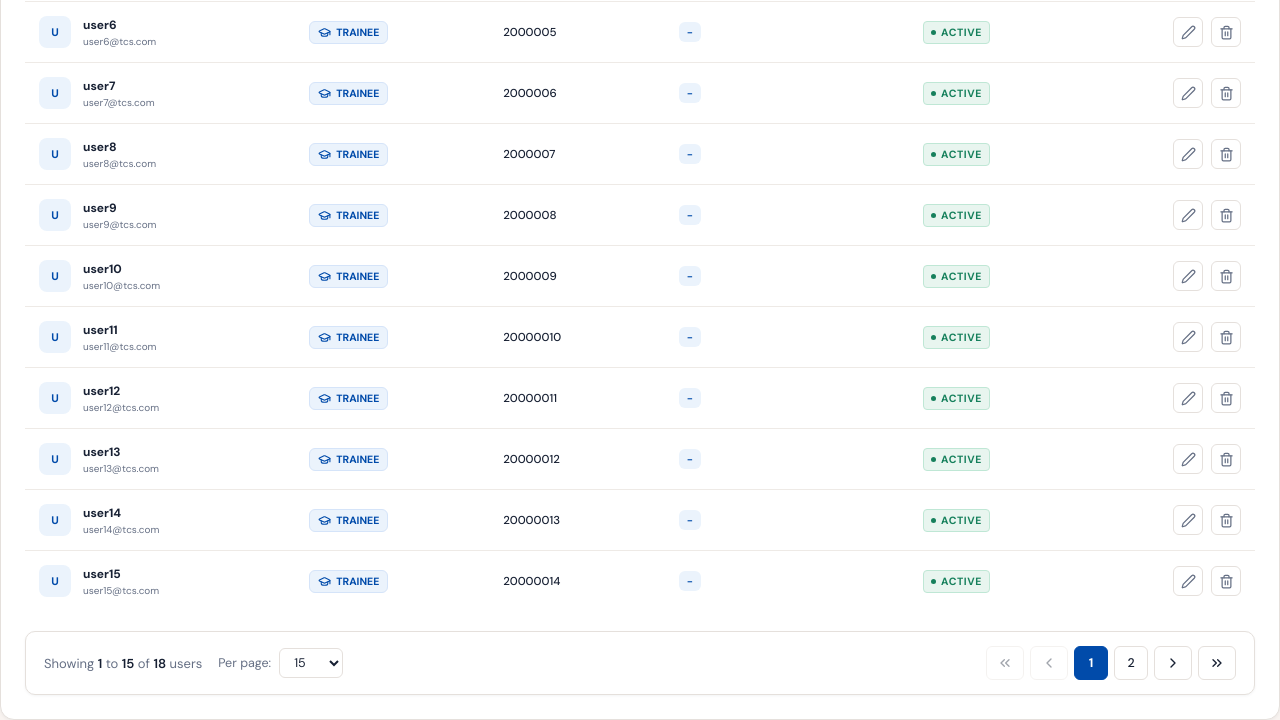
Test: ManageUsers page › paginates the table and navigates to the next page
(page scrolled)
Expected: the text "user16" is not shown
Click the button named "next page" at [1173, 663], box x1=1154 y1=646 x2=1192 y2=680
(page scrolled)
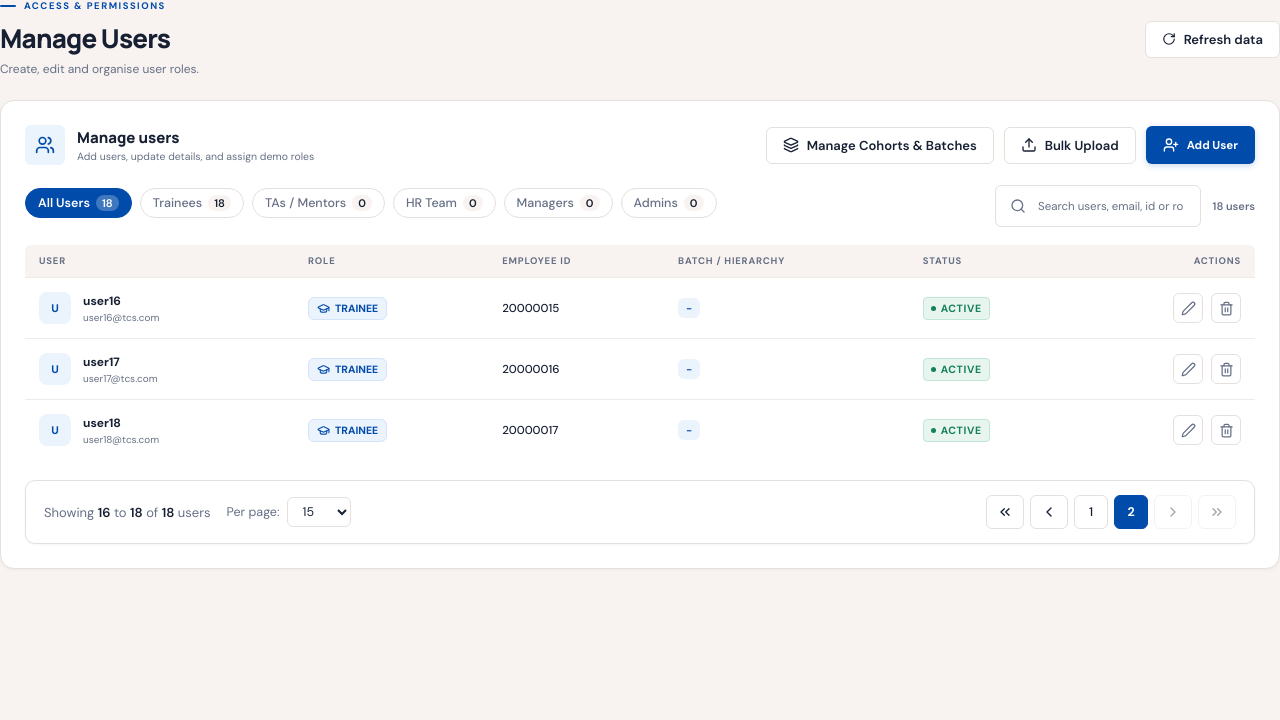
Expected: the text "user16" is shown, x1=83 y1=292 x2=121 y2=308
